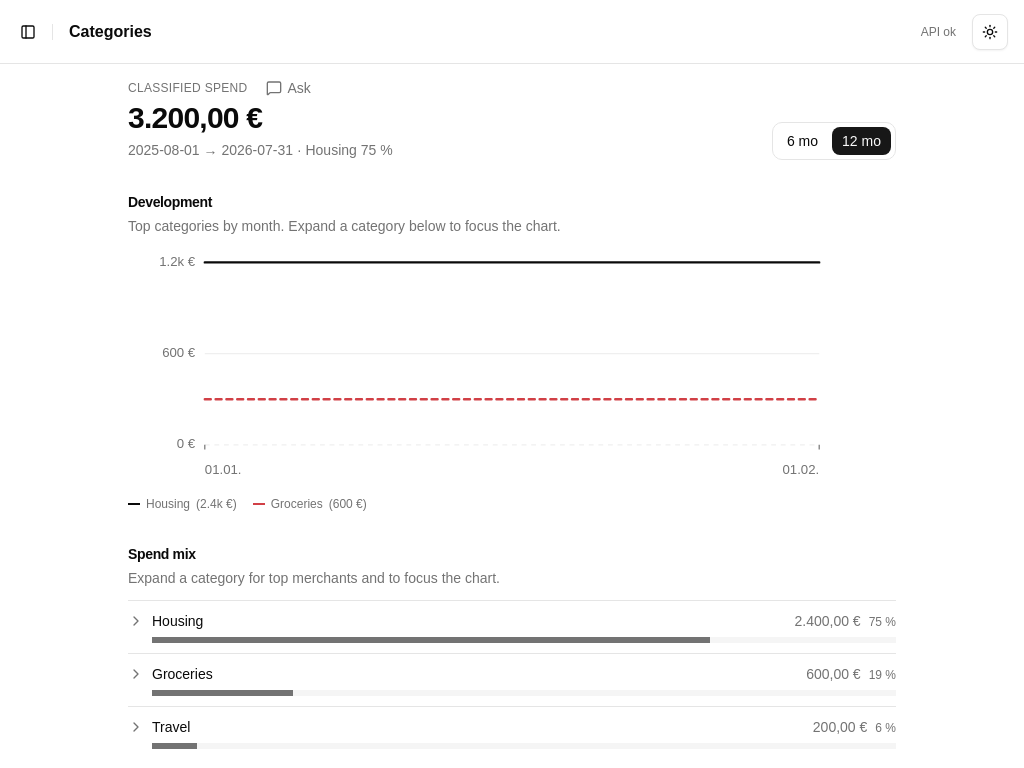
Scenario: Insights categories page › shows spend mix and expands merchants
Expected: the heading "Development" is shown, [128,194,212,210]
Expected: the picture named "Monthly spend by top categories" is shown, [128,248,896,488]
Click the button "Housing 2.400,00 €75 %". click: (178, 621)
box: [128,611,896,643]
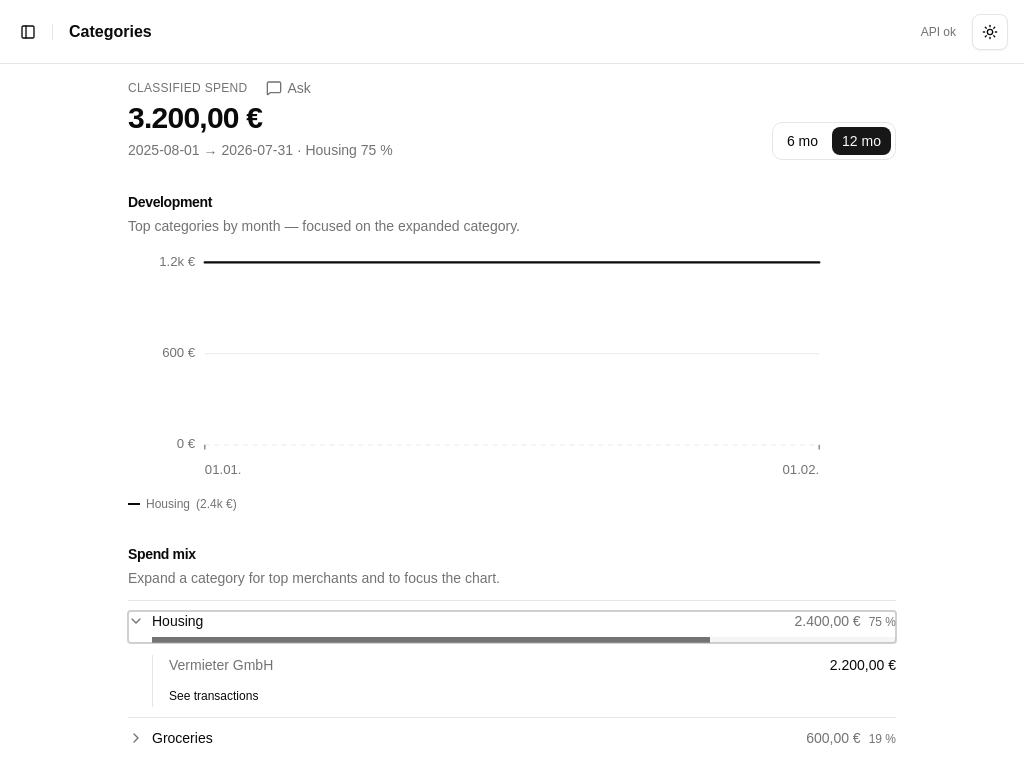
Result: the text "Vermieter GmbH" is shown at [169,655,273,675]
